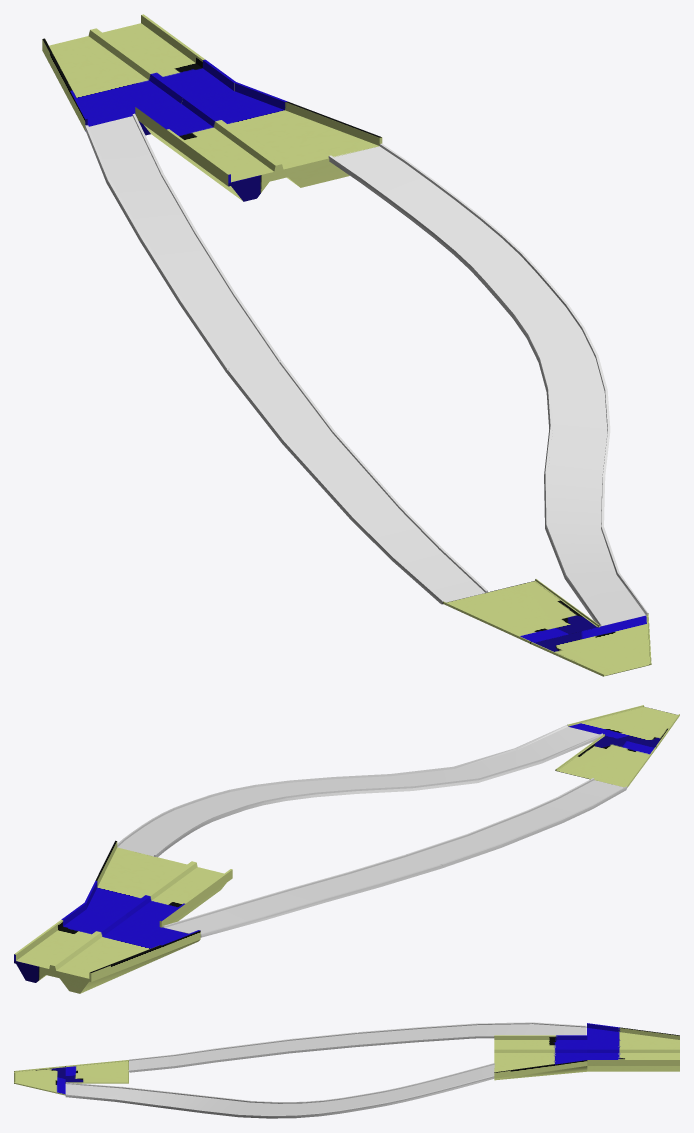
The model's file is HighwayOnStraight.FBX.
The picture shows the model from 3 angles, top to bottom: view 1: azimuth 30°, elevation 25°; view 2: azimuth 150°, elevation 25°; view 3: azimuth 270°, elevation 25°; orthographic projection. The views are drawn at different scales.
Parts seen in each view (by area): view 1: Line001, Line002, highway, highway001, Box031, Box020; view 2: Line002, Line001, highway001, highway, Box031, Box020; view 3: Line001, Line002, highway001, highway, Box031, Box020.
Boxes of the visible parts, x1,y1,x2,y2 form: Line001: (328,143,648,626); Line002: (85,113,487,604); highway: (135,82,382,201); highway001: (42,14,235,135); Box031: (442,579,599,643); Box020: (530,613,651,676); Line002: (162,778,627,937); Line001: (117,725,602,857); highway001: (14,902,200,993); highway: (85,840,232,927); Box031: (555,734,656,787); Box020: (567,705,679,747); Line001: (65,1063,494,1118); Line002: (128,1022,586,1072); highway001: (587,1023,679,1071); highway: (494,1035,587,1080); Box031: (65,1060,128,1083); Box020: (14,1066,65,1095).
Size of the model in its own units: 31973 by 11438 by 108178.
